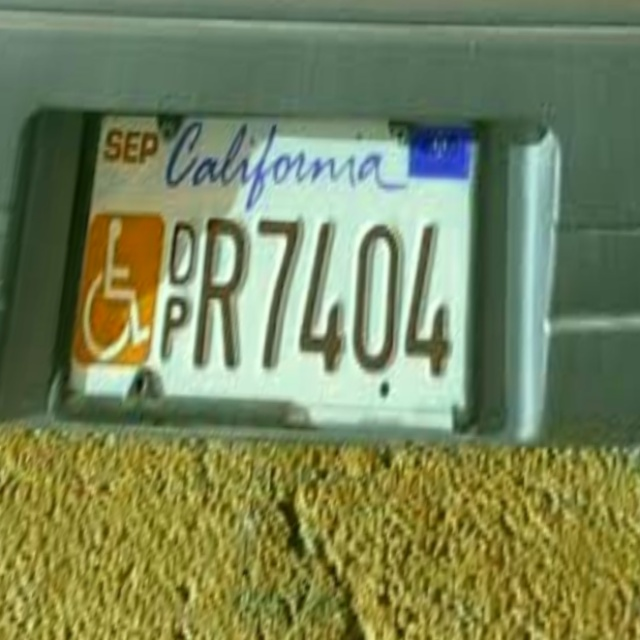ISA: (70, 213, 168, 368)
